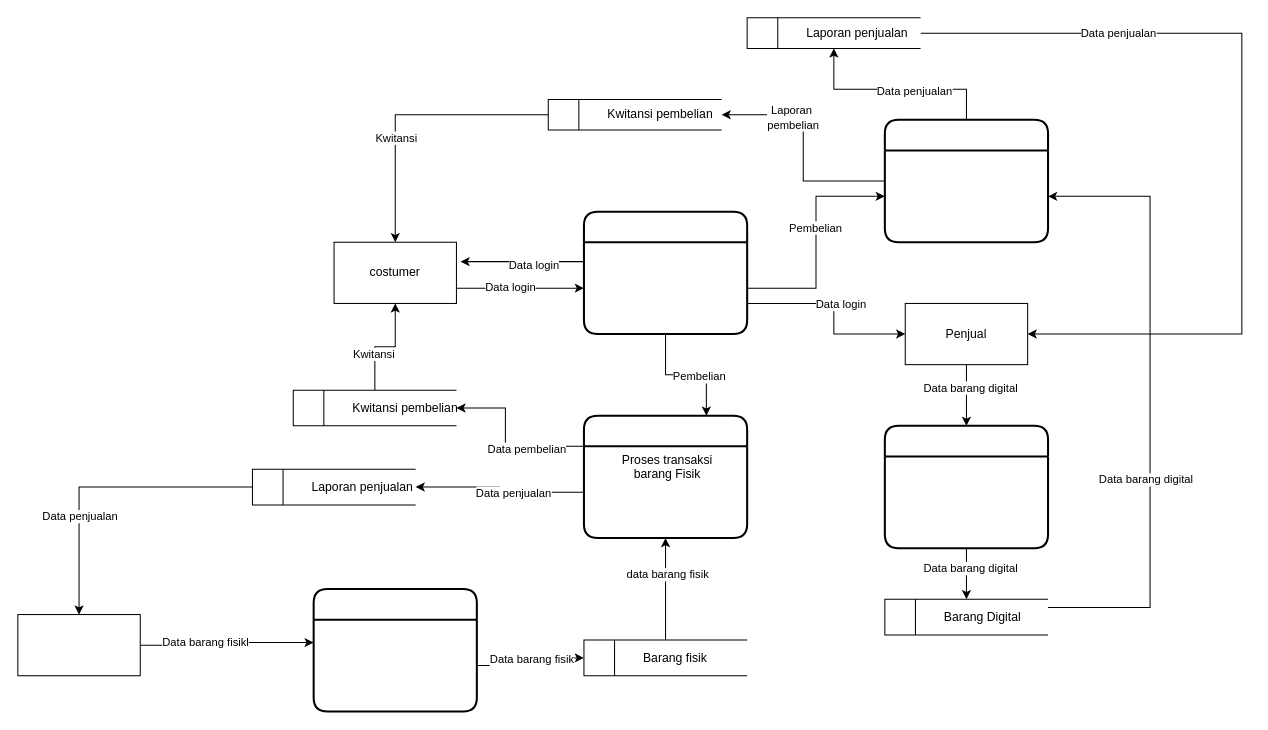
Image size: 1268x730. Some labels were removed from this diagram. The shapes that lost their labels are listed below. From the top down, each one's centre as x and y in pixels, then its label:
(966,180): Proses transaksi barang Digital
(665,272): Login
(966,486): Input data barang digital
(78,645): Admin
(394,650): Input data barang Fisik
